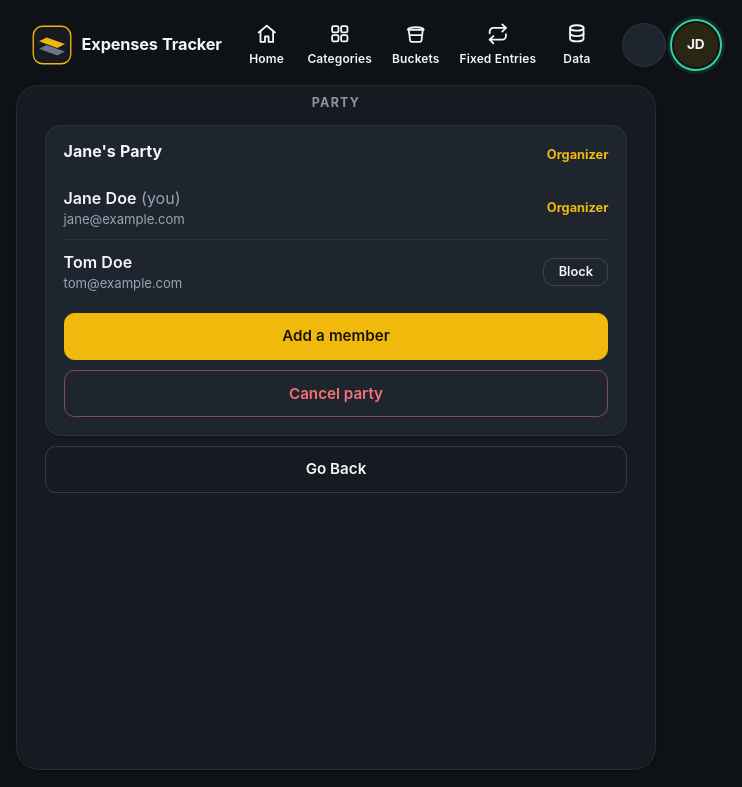
Test case: canceling the party › organizer confirms the cancel and sees the canceled view
The image size is (742, 787).
Click the button "Cancel party".
click(336, 394)  # box x1=64 y1=370 x2=608 y2=418
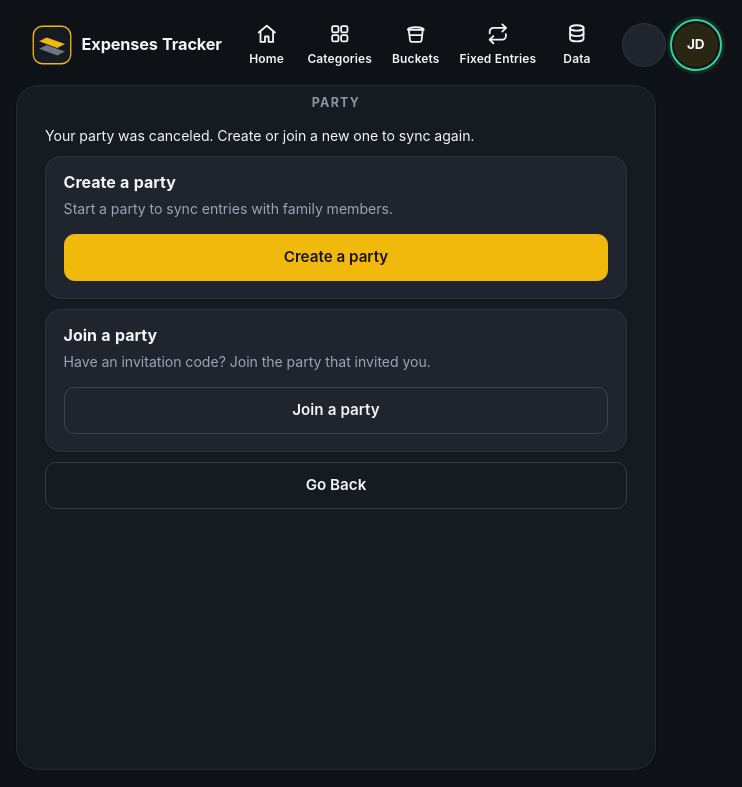
Now the text "Your party was canceled. Create or join a new one to sync again." is shown, box x1=45 y1=127 x2=474 y2=144
Now the heading "Jane's Party" is gone
